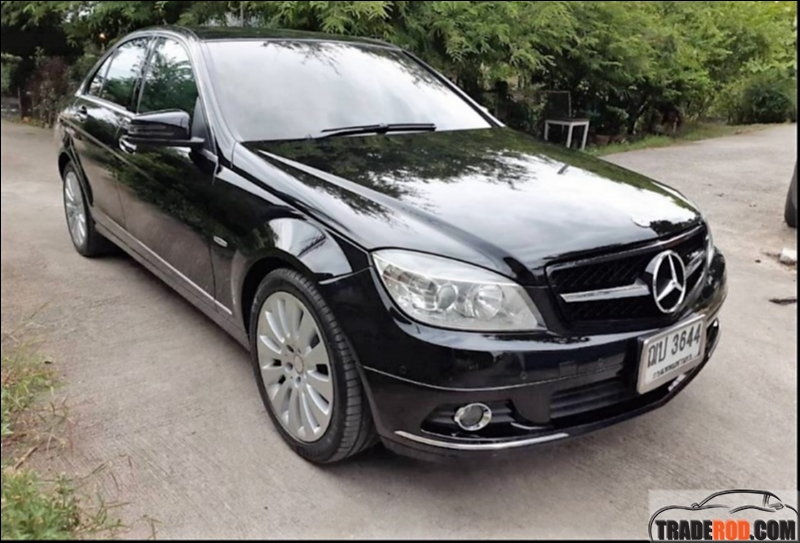sedan: (52, 18, 728, 466)
